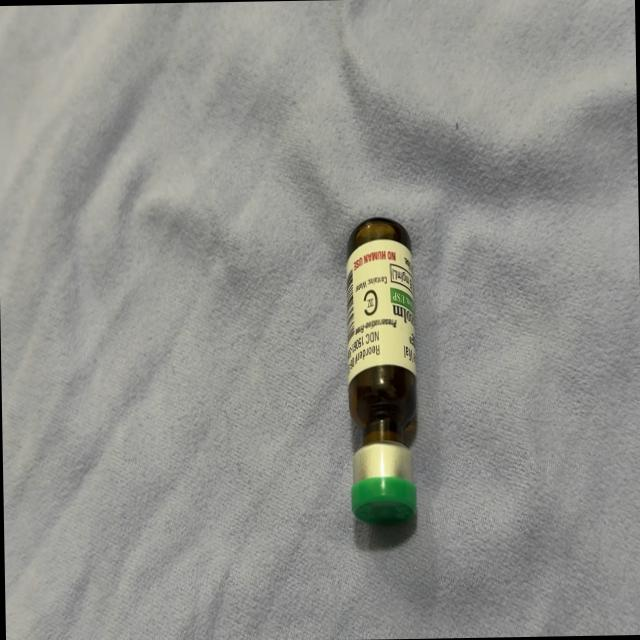midazolm: (346, 220, 418, 520)
